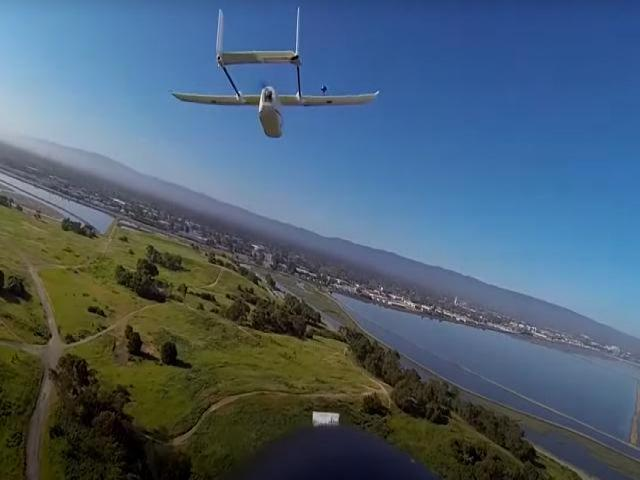iha: (166, 3, 391, 140)
